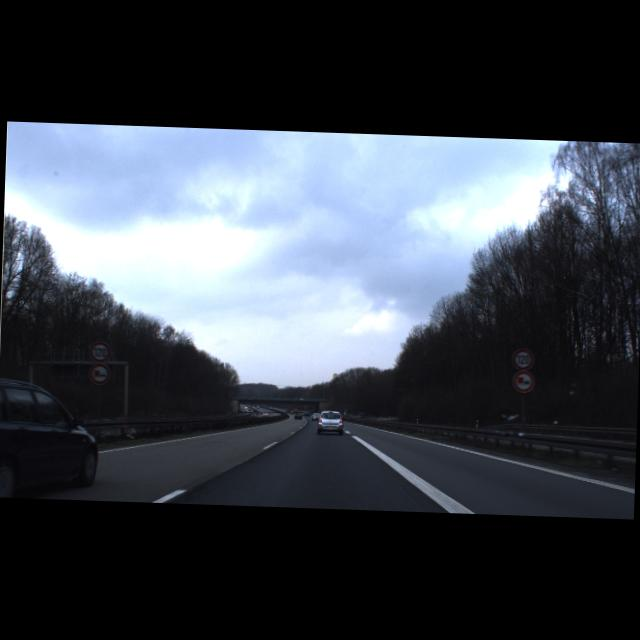prohibitory: (511, 369, 535, 393), (88, 340, 112, 363), (86, 362, 110, 385), (512, 348, 534, 370)
